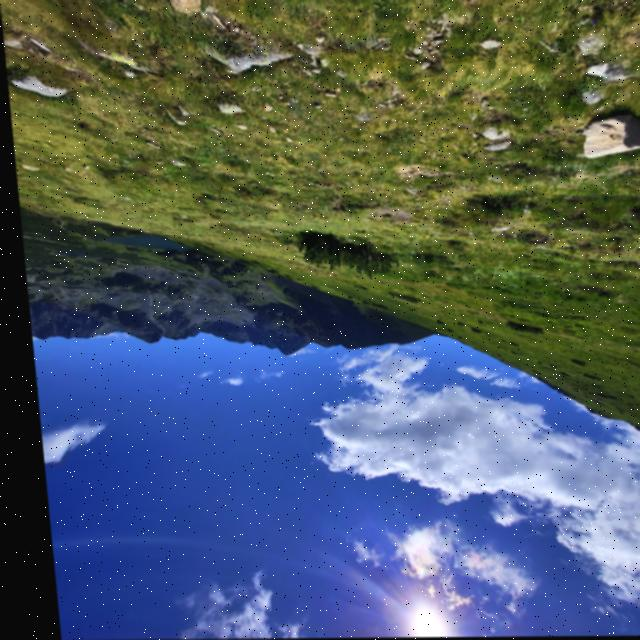Koscielec: (111, 315, 205, 365)
Skrajny i Posredni Granat: (31, 321, 93, 355)
Swinica: (242, 324, 331, 384)
